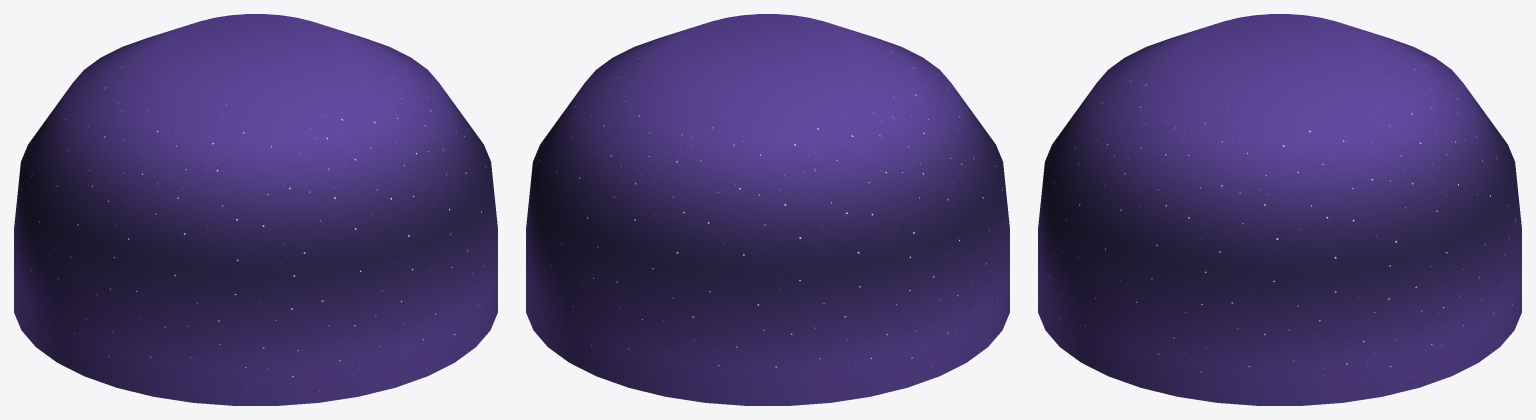
Rendered from MoonBG.fbx.
The picture shows the model from 3 angles, left to right: view 1: azimuth 30°, elevation 25°; view 2: azimuth 150°, elevation 25°; view 3: azimuth 270°, elevation 25°; orthographic projection.
Parts seen in each view (by area): view 1: MoonBG; view 2: MoonBG; view 3: MoonBG.
Part boxes in pixels (bbox=[...]): MoonBG: bbox=[14, 14, 497, 405]; MoonBG: bbox=[526, 14, 1009, 405]; MoonBG: bbox=[1038, 14, 1521, 405].
Size of the model in its own units: 3865 by 2384 by 3865.
1 material, 1 textured.
